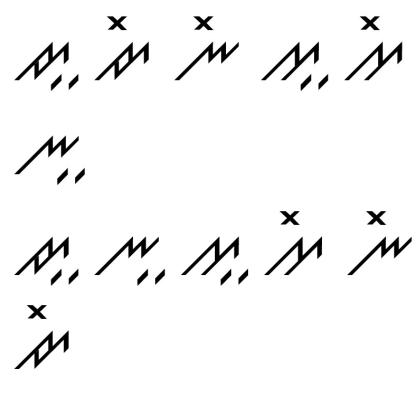jah: (9, 36, 81, 100), (10, 226, 80, 290)
jo: (11, 302, 73, 374), (95, 12, 154, 84)
nyah: (94, 220, 167, 289), (11, 130, 89, 187)
nyo: (346, 205, 413, 283), (171, 10, 241, 84)
sah: (257, 33, 332, 96), (178, 232, 254, 290)
so: (265, 207, 328, 283), (344, 8, 406, 85)
